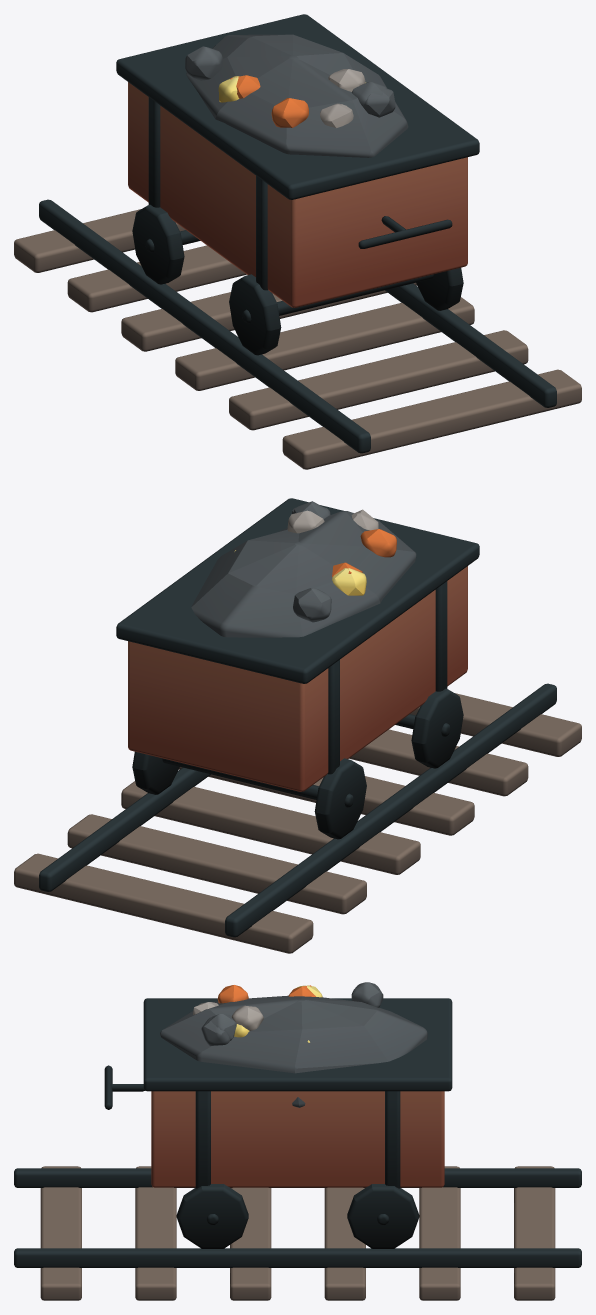
Rendered from ore_cart.glb.
The picture shows the model from 3 angles, top to bottom: view 1: azimuth 30°, elevation 25°; view 2: azimuth 150°, elevation 25°; view 3: azimuth 270°, elevation 25°; orthographic projection. The views are drawn at different scales.
Parts seen in each view (by area): view 1: ore_cart; view 2: ore_cart; view 3: ore_cart.
Part boxes in pixels (x1=…): ore_cart: x1=14, y1=14, x2=581, y2=469; ore_cart: x1=14, y1=498, x2=581, y2=953; ore_cart: x1=14, y1=982, x2=581, y2=1300.
Bounding box in the file's own units: 1.5 × 1.43 × 3.
1 material, 1 textured.
